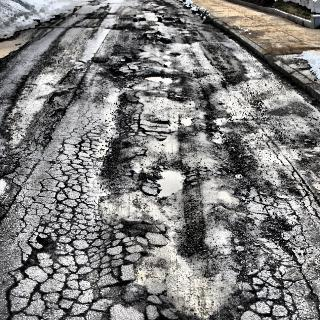alligator-crack: (0, 217, 184, 320), (30, 114, 110, 226), (224, 258, 304, 320), (248, 190, 305, 244), (117, 113, 170, 140), (112, 62, 145, 76)
pothole: (136, 160, 191, 202), (145, 72, 177, 84), (179, 114, 194, 128)
